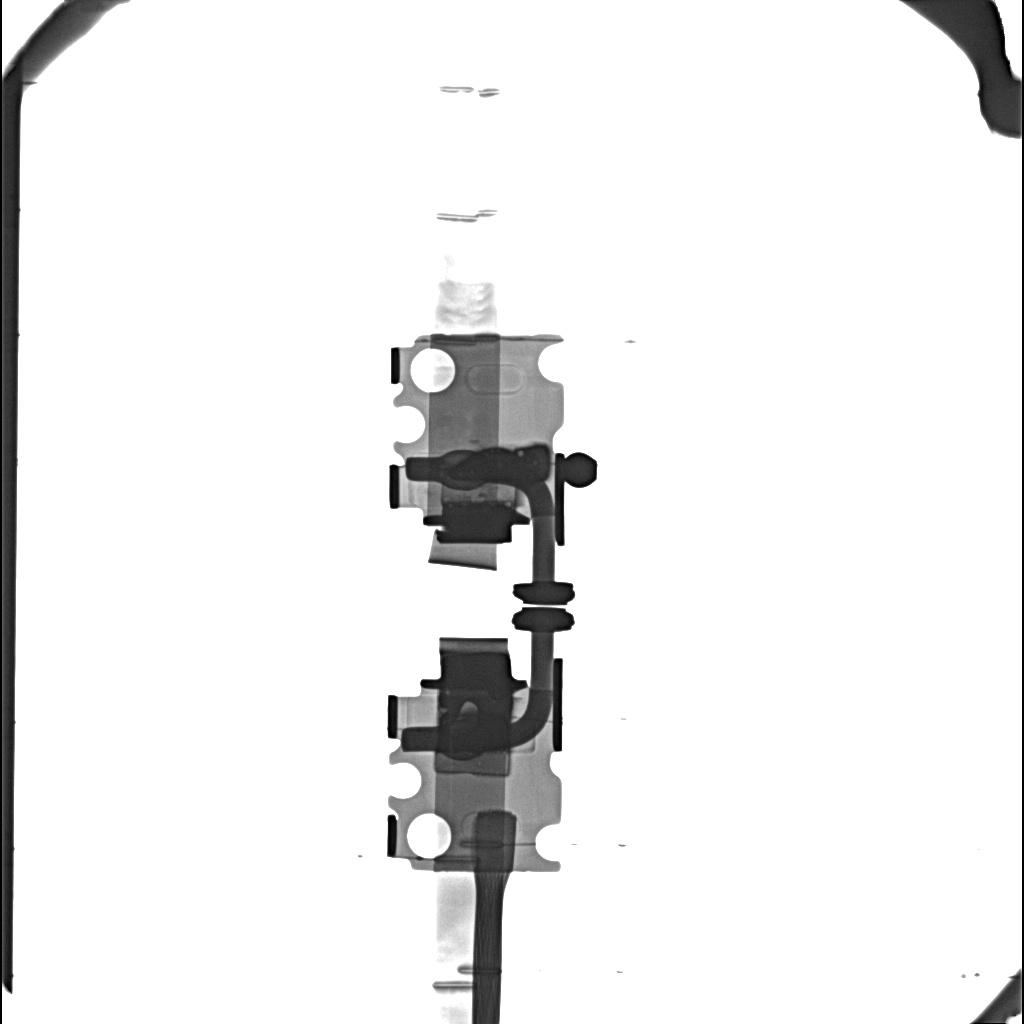defect: (447, 446, 548, 484), (437, 714, 510, 753), (433, 753, 511, 777), (461, 701, 480, 712)
